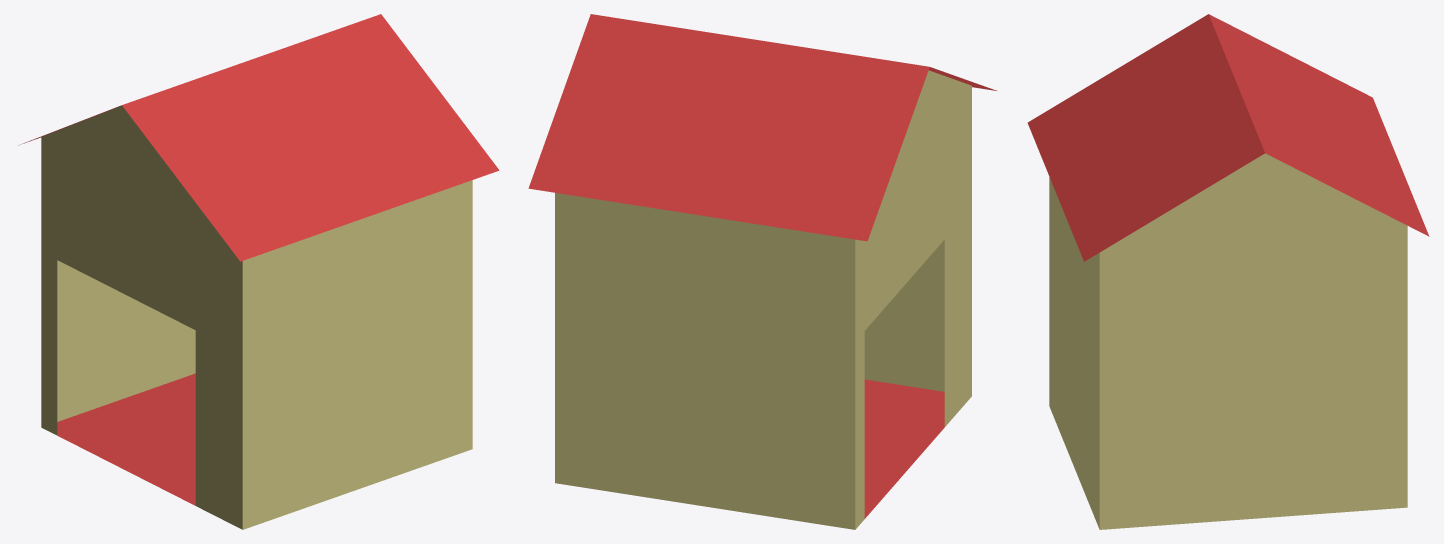
3 renders of one model, left to right at view 1: azimuth 30°, elevation 25°; view 2: azimuth 150°, elevation 25°; view 3: azimuth 270°, elevation 25°, orthographic. The views are drawn at different scales.
Size of the model in its own units: 10.21 by 10.55 by 10.79.
